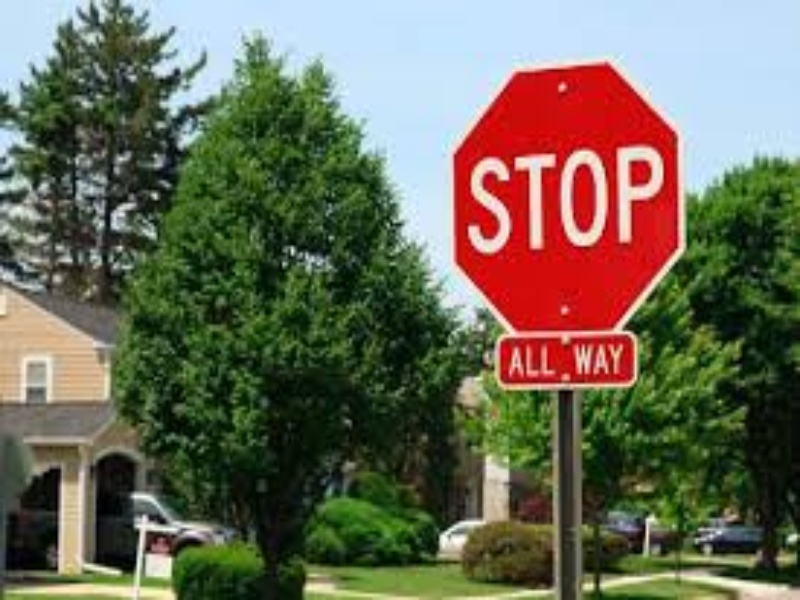Stop_Sign: (448, 62, 685, 334)
